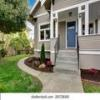stairs: (54, 50, 80, 74)
